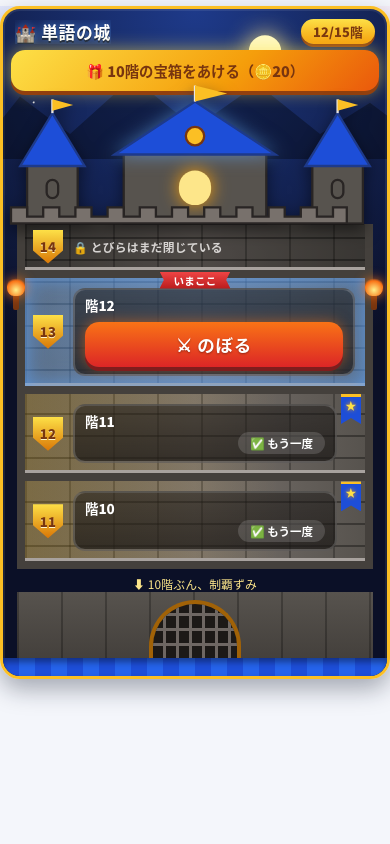
Test: 10階ごとに宝箱：クリアしたらあけられて🪙20、1回だけ
The width and height of the screenshot is (390, 844).
Click the button "🎁 10階の宝箱をあける（🪙20）".
click(195, 70)  # box [11,50,379,91]
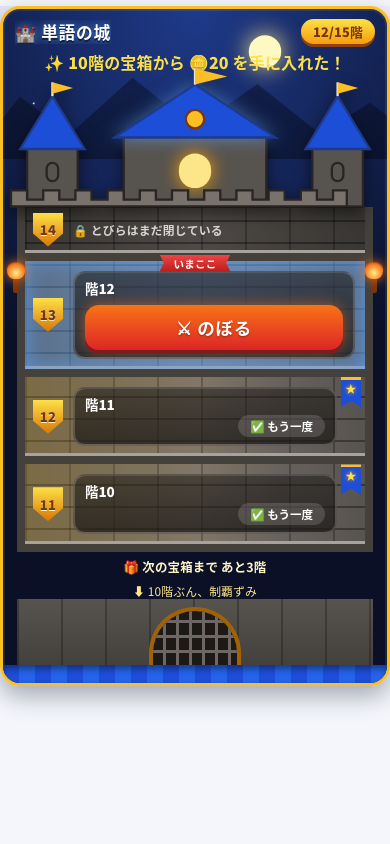
Result: the text "✨ 10階の宝箱から 🪙20 を手に入れた！" is shown at [44,50,346,74]
